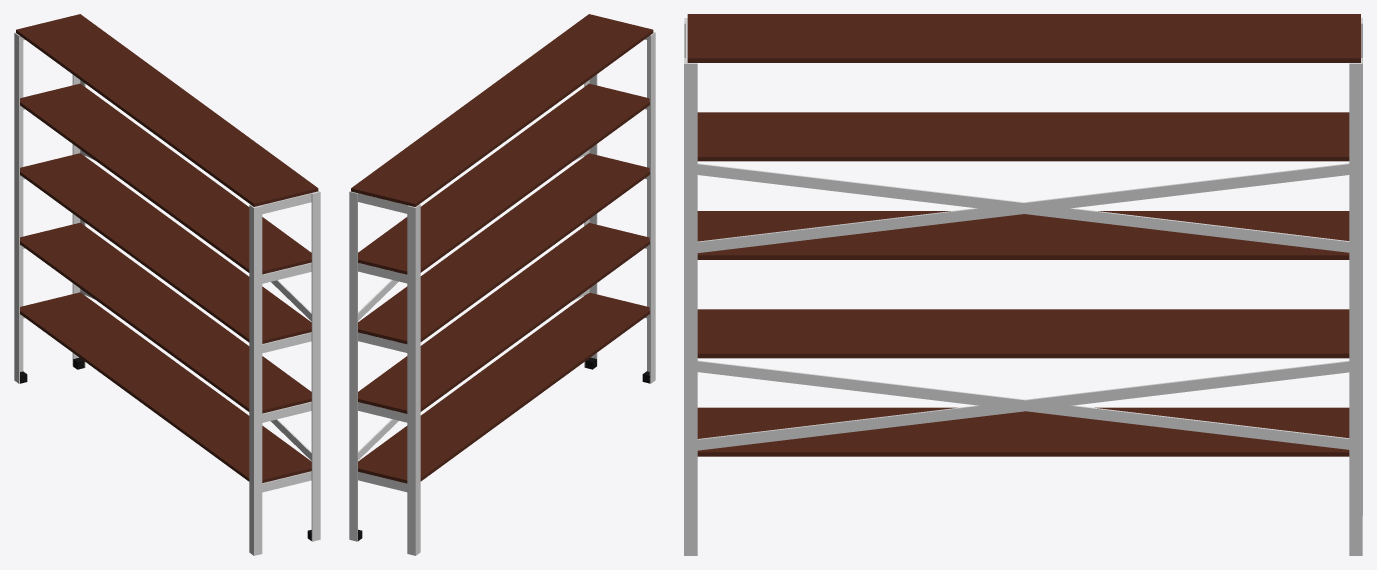
File: store_racks.glb
3 renders of one model, left to right at view 1: azimuth 30°, elevation 25°; view 2: azimuth 150°, elevation 25°; view 3: azimuth 270°, elevation 25°, orthographic. The views are drawn at different scales.
Visible parts, largest first — view 1: StoreRacks; view 2: StoreRacks; view 3: StoreRacks.
Boxes of the visible parts, left/top/right/bottom form: StoreRacks: left=14, top=14, right=320, bottom=555; StoreRacks: left=349, top=14, right=655, bottom=555; StoreRacks: left=684, top=14, right=1362, bottom=555.
Size of the model in its own units: 0.4009 by 2.02 by 2.5.
